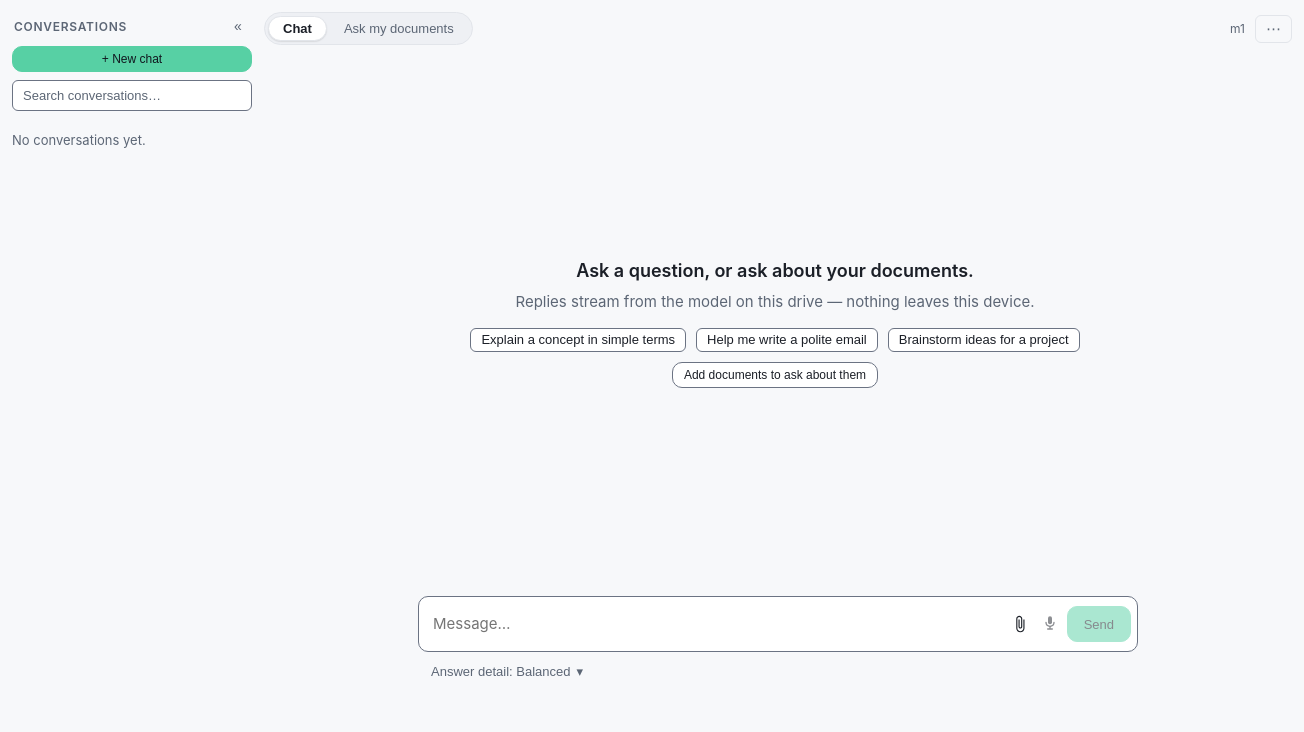
ChatScreen — header mode segmented control › is a radiogroup and switches the composer mode
Check: the element named "Chat mode" is shown, box [264, 12, 473, 45]
Check: the radio button labelled "Chat" is checked, box [268, 16, 327, 41]
Step 1. Click the radio button labelled "Ask my documents" → (399, 28), box [329, 16, 469, 41]
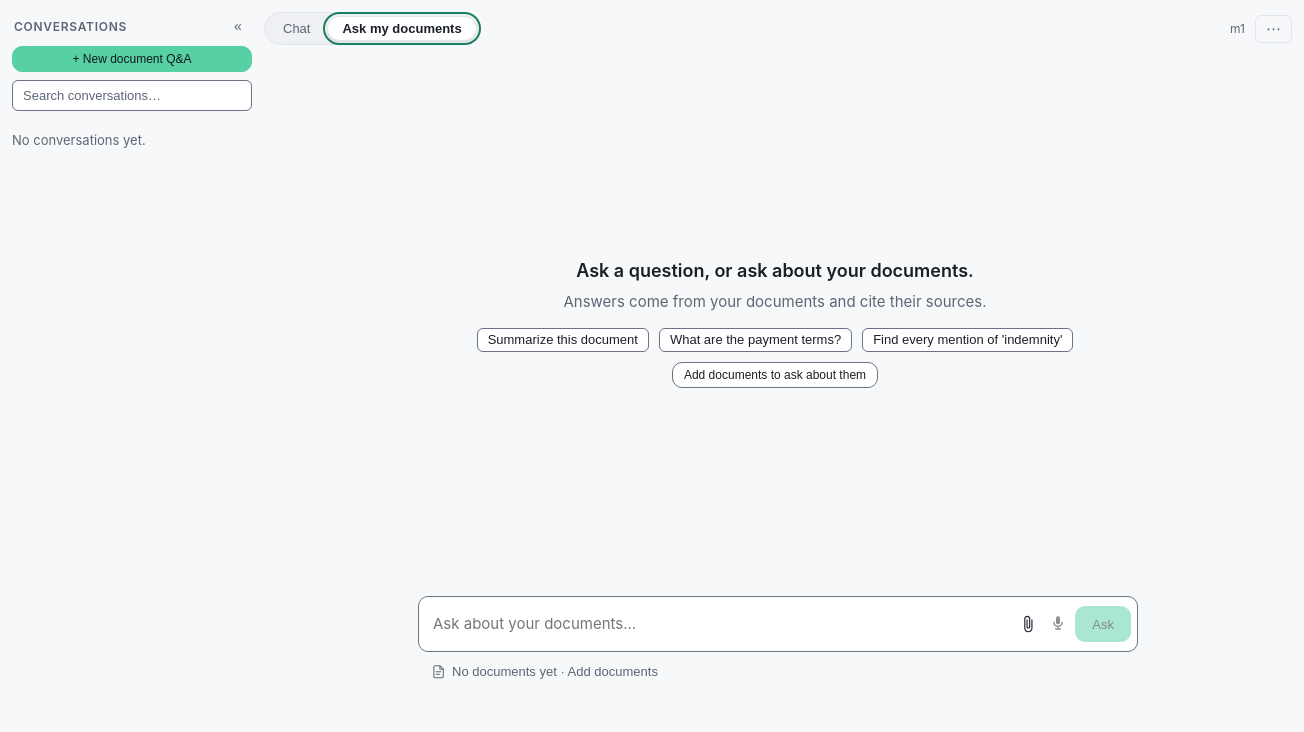
Check: the radio button labelled "Ask my documents" is checked, box [328, 16, 477, 41]
Check: the text box with placeholder "Ask about your documents…" is shown, box [423, 603, 1011, 645]
Step 2. Click the radio button labelled "Chat" → (297, 28), box [268, 16, 326, 41]
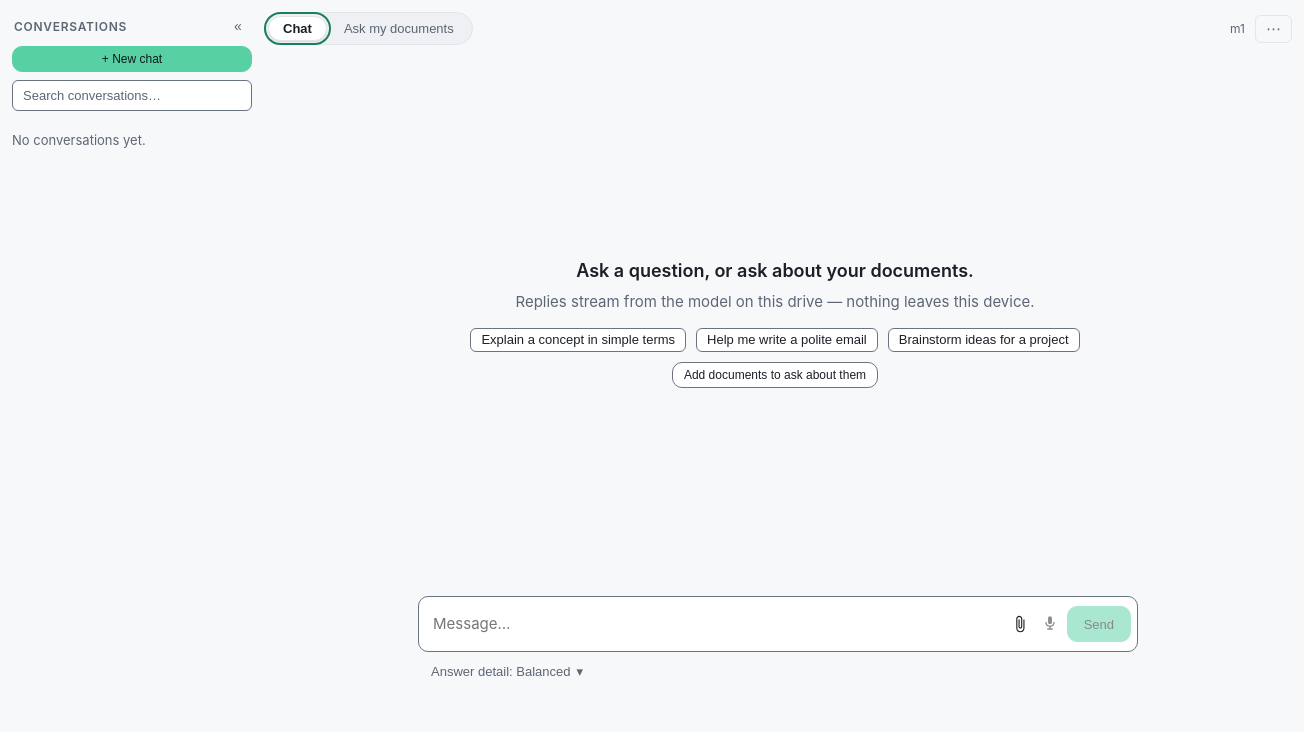
Check: the text box with placeholder "Message…" is shown, box [423, 603, 1003, 645]
